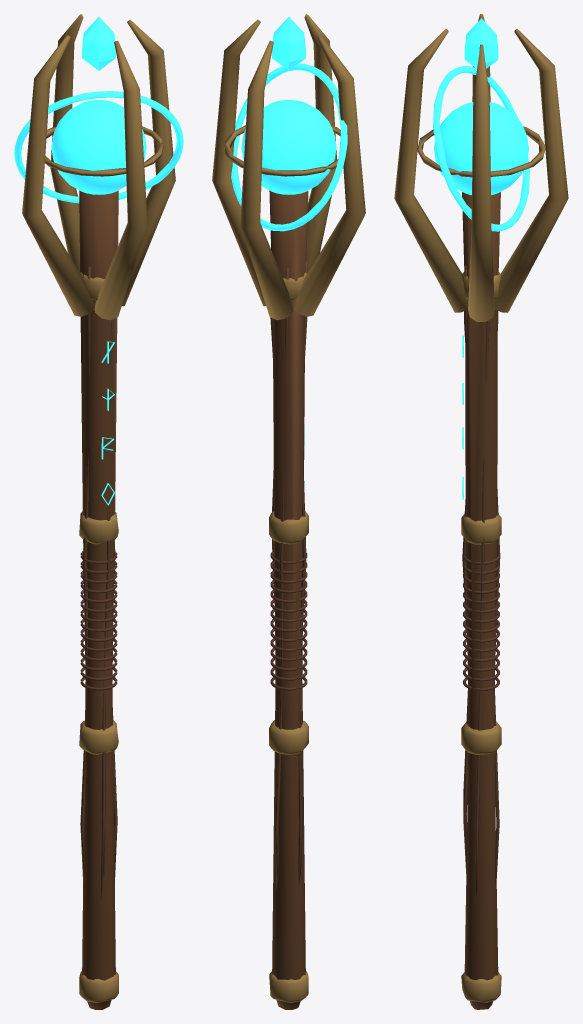
File: wooden-staff-legendary-high.glb
The picture shows the model from 3 angles, left to right: view 1: azimuth 30°, elevation 25°; view 2: azimuth 150°, elevation 25°; view 3: azimuth 270°, elevation 25°; orthographic projection.
Visible parts, largest first — view 1: wooden-staff__legendary; view 2: wooden-staff__legendary; view 3: wooden-staff__legendary.
Boxes of the visible parts, x1,y1,x2,y2 form: wooden-staff__legendary: (14, 14, 183, 1009); wooden-staff__legendary: (212, 14, 365, 1009); wooden-staff__legendary: (394, 14, 568, 1009).
Bounding box in the file's own units: 0.2924 × 1.83 × 0.2929.
